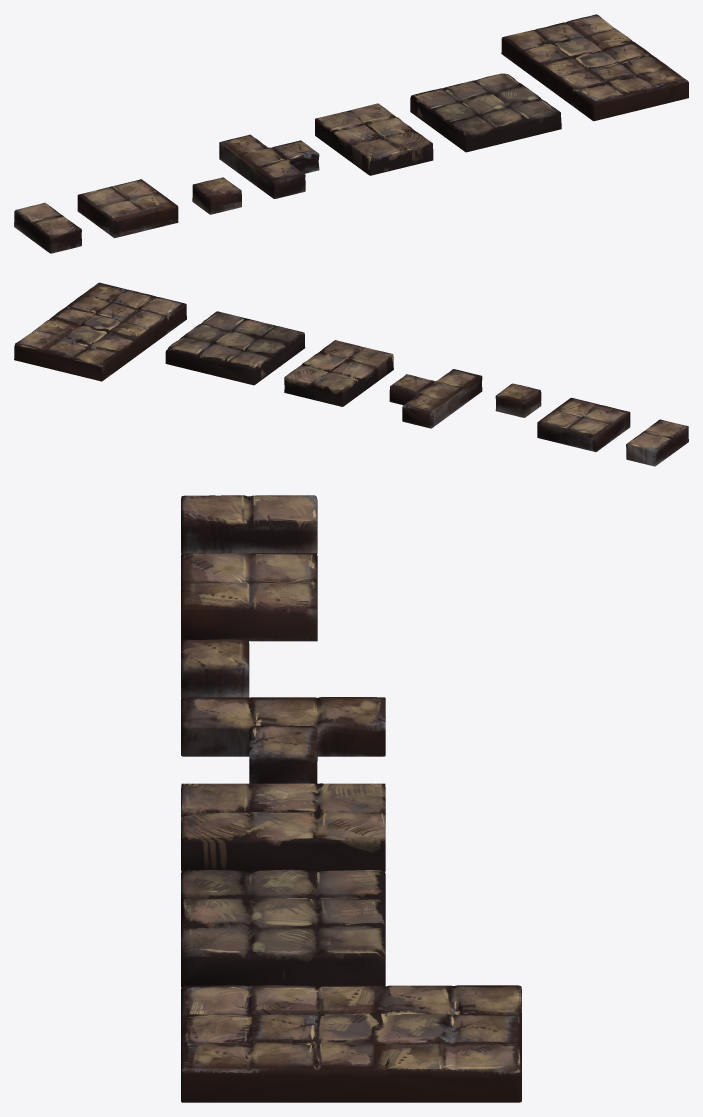
Rendered from FloorTiles.fbx.
3 renders of one model, top to bottom at view 1: azimuth 30°, elevation 25°; view 2: azimuth 150°, elevation 25°; view 3: azimuth 270°, elevation 25°, orthographic. The views are drawn at different scales.
Visible parts, largest first — view 1: floor3x5, floor3x3, floor2z3, floorT, floor2x2, floor1x2, floor1x1; view 2: floor3x5, floor3x3, floor2z3, floorT, floor2x2, floor1x2, floor1x1; view 3: floor3x5, floor3x3, floor2z3, floorT, floor2x2, floor1x2, floor1x1.
Boxes of the visible parts, box(x1,y1,x2,y2) form: floor3x5: box(501, 14, 688, 121); floor3x3: box(410, 73, 561, 152); floor2z3: box(315, 103, 433, 175); floorT: box(219, 134, 319, 198); floor2x2: box(77, 179, 178, 238); floor1x2: box(14, 202, 81, 253); floor1x1: box(192, 177, 241, 214); floor3x5: box(14, 282, 186, 381); floor3x3: box(165, 311, 305, 385); floor2z3: box(284, 340, 393, 406); floorT: box(389, 369, 482, 428); floor2x2: box(537, 397, 630, 451); floor1x2: box(626, 419, 688, 466); floor1x1: box(495, 383, 541, 417); floor3x5: box(181, 985, 521, 1102); floor3x3: box(181, 869, 385, 987); floor2z3: box(181, 783, 385, 871); floorT: box(181, 697, 385, 783); floor2x2: box(181, 553, 317, 641); floor1x2: box(181, 495, 317, 553); floor1x1: box(181, 639, 249, 697).
Bounding box in the file's own units: 2000 × 60.28 × 500.
3 materials, 3 textured.
